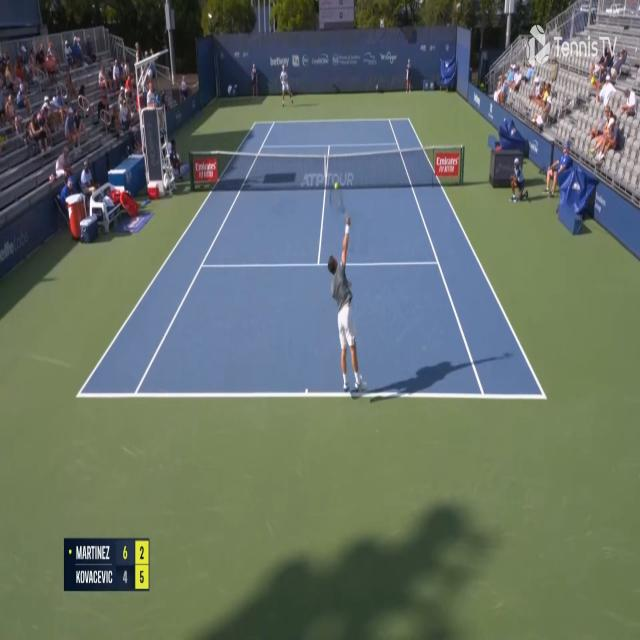tennis-player: (326, 210, 363, 397), (280, 63, 295, 108)
